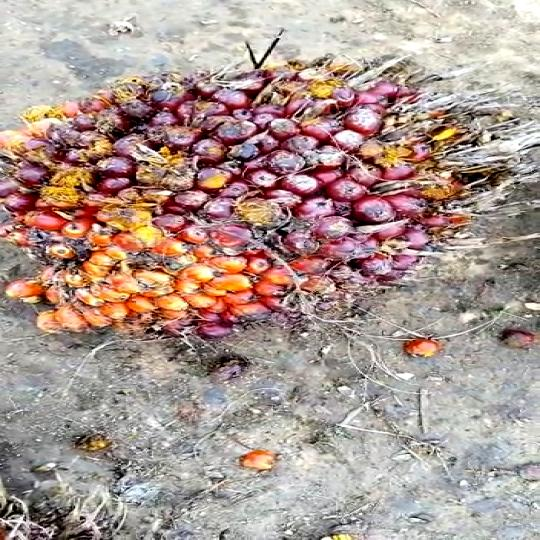masak: (0, 54, 540, 329)
